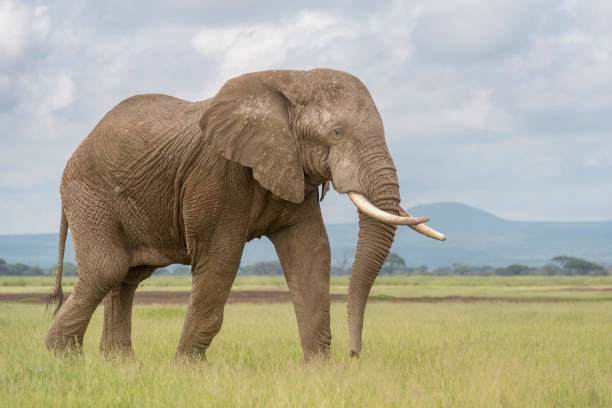africanelephant: (248, 73, 453, 245)
